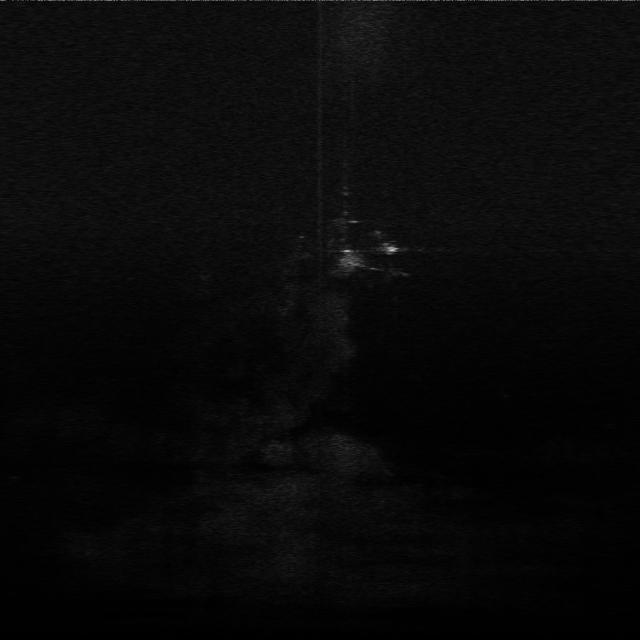rov: (379, 241, 402, 256)
